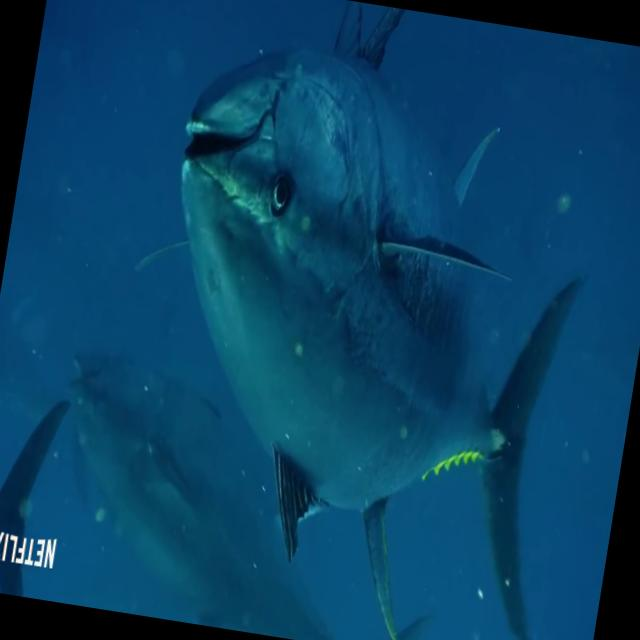fish: (105, 0, 637, 640), (28, 297, 462, 640), (0, 377, 90, 602)
